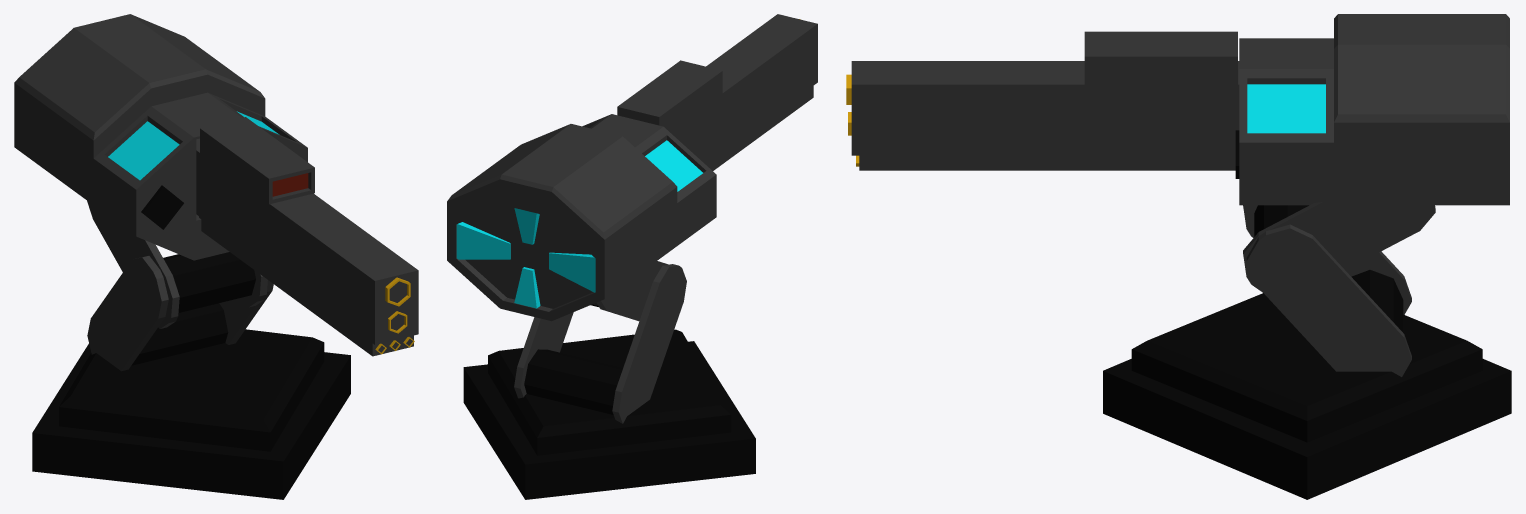
File: Rail Gun Turret.glb
The picture shows the model from 3 angles, left to right: view 1: azimuth 30°, elevation 25°; view 2: azimuth 150°, elevation 25°; view 3: azimuth 270°, elevation 25°; orthographic projection. The views are drawn at different scales.
Visible parts, largest first — view 1: BaseRailGunTurret1; view 2: BaseRailGunTurret1; view 3: BaseRailGunTurret1.
Boxes of the visible parts, x1,y1,x2,y2 form: BaseRailGunTurret1: (14, 14, 418, 499); BaseRailGunTurret1: (447, 14, 817, 499); BaseRailGunTurret1: (846, 14, 1511, 499).
Bounding box in the file's own units: 2.8 × 2.9 × 4.55.
1 material, 1 textured.
